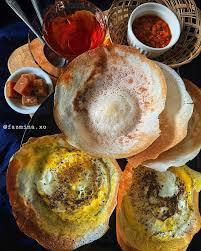Hoppers: (42, 40, 195, 204)
Lunu sambol: (129, 2, 176, 53)
